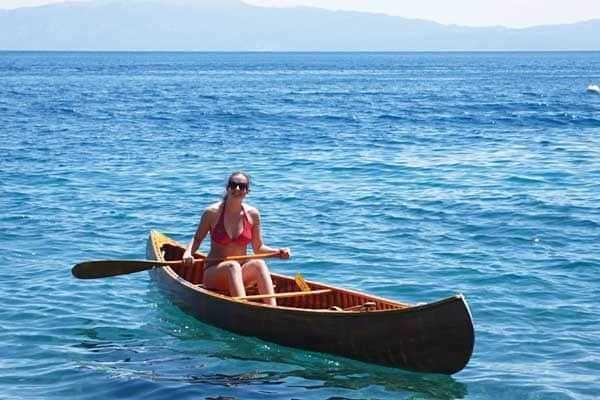kayak: (144, 228, 473, 376)
